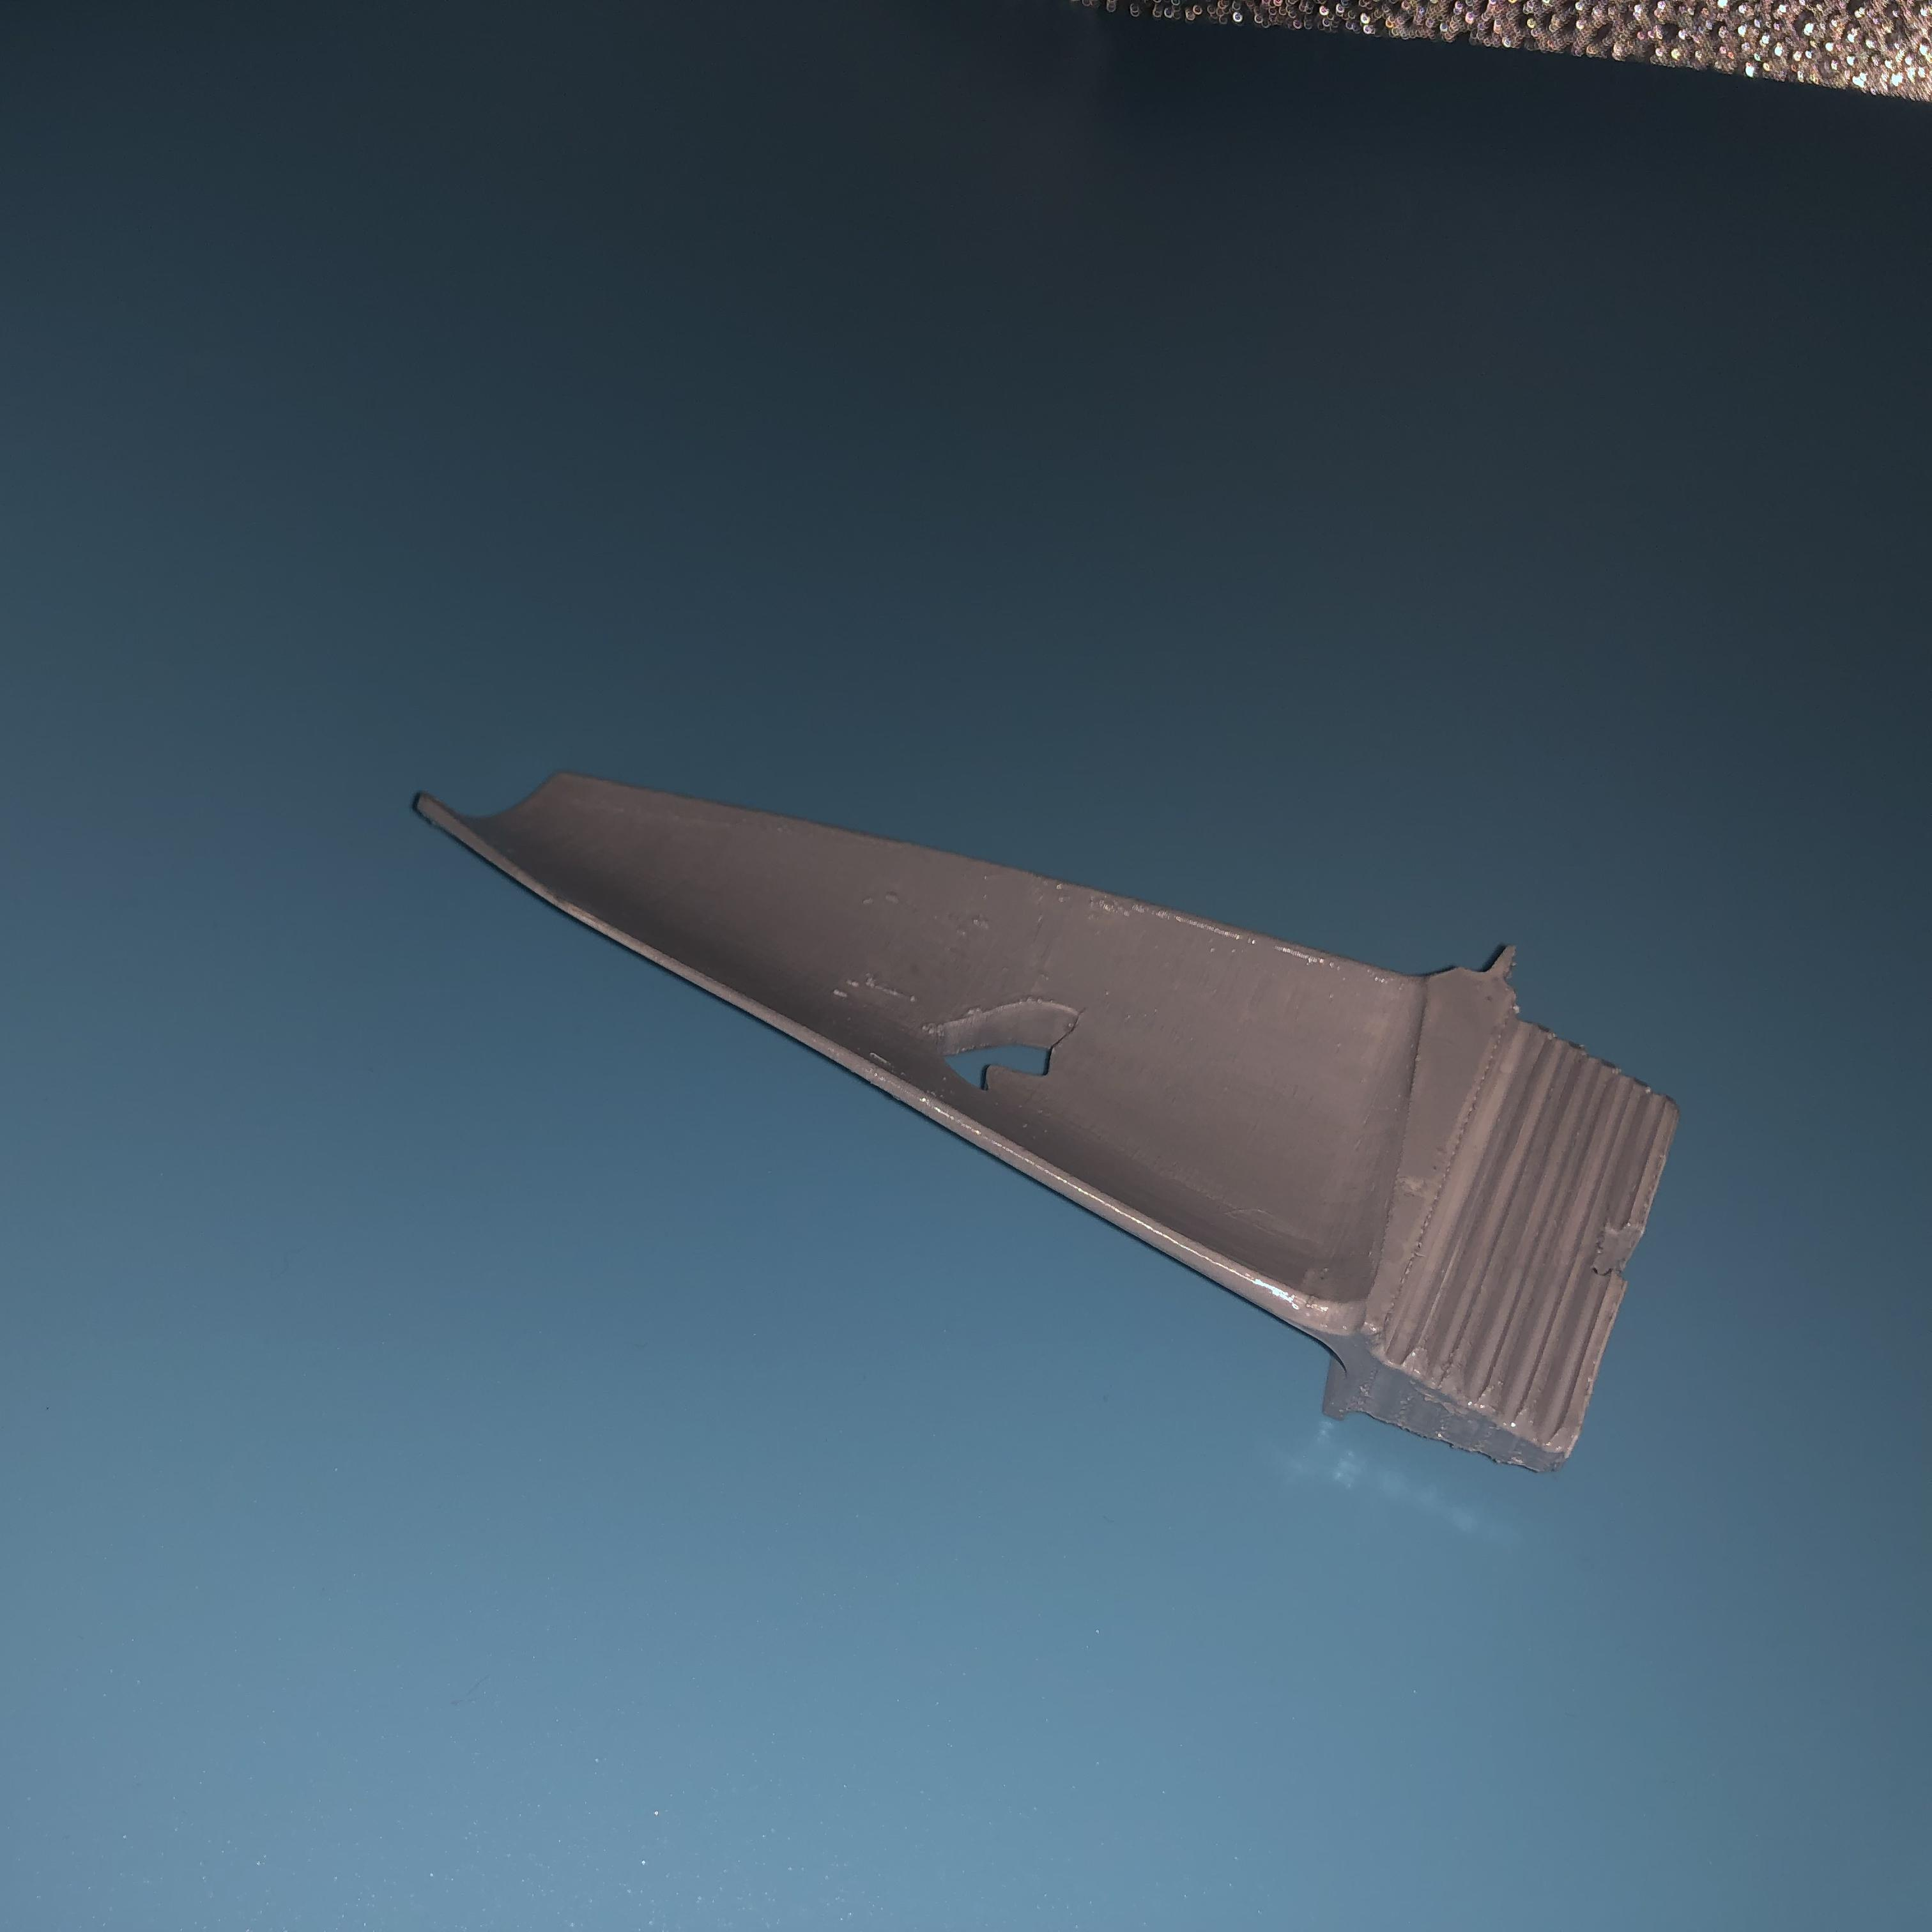breakdown: (931, 996, 1083, 1100)
